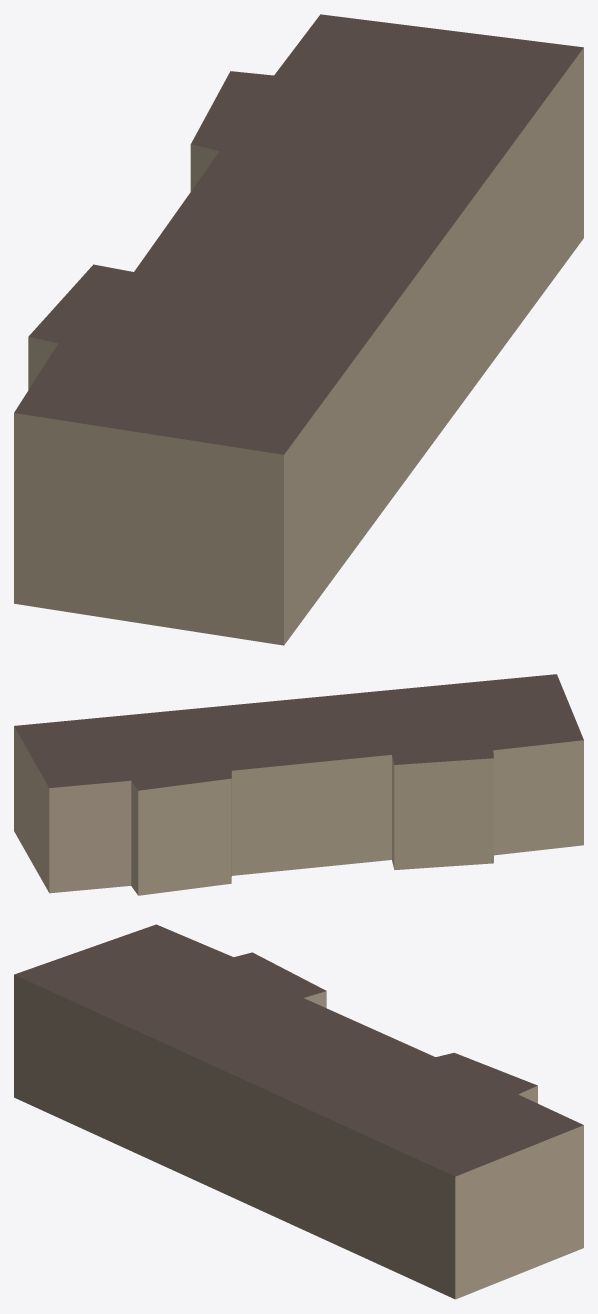
3 renders of one model, top to bottom at view 1: azimuth 30°, elevation 25°; view 2: azimuth 150°, elevation 25°; view 3: azimuth 270°, elevation 25°, orthographic. The views are drawn at different scales.
Visible parts, largest first — view 1: HP-w1515076942; view 2: HP-w1515076942; view 3: HP-w1515076942.
Part boxes in pixels (x1=…): HP-w1515076942: x1=14, y1=14, x2=583, y2=645; HP-w1515076942: x1=14, y1=674, x2=583, y2=895; HP-w1515076942: x1=14, y1=924, x2=583, y2=1299.
Size of the model in its own units: 39.6 by 9 by 37.82.
